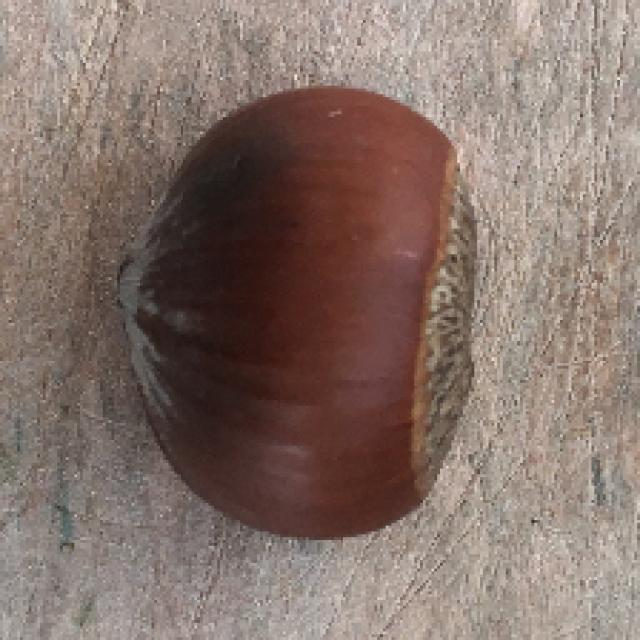damagedHazelnut: (116, 85, 477, 538)
